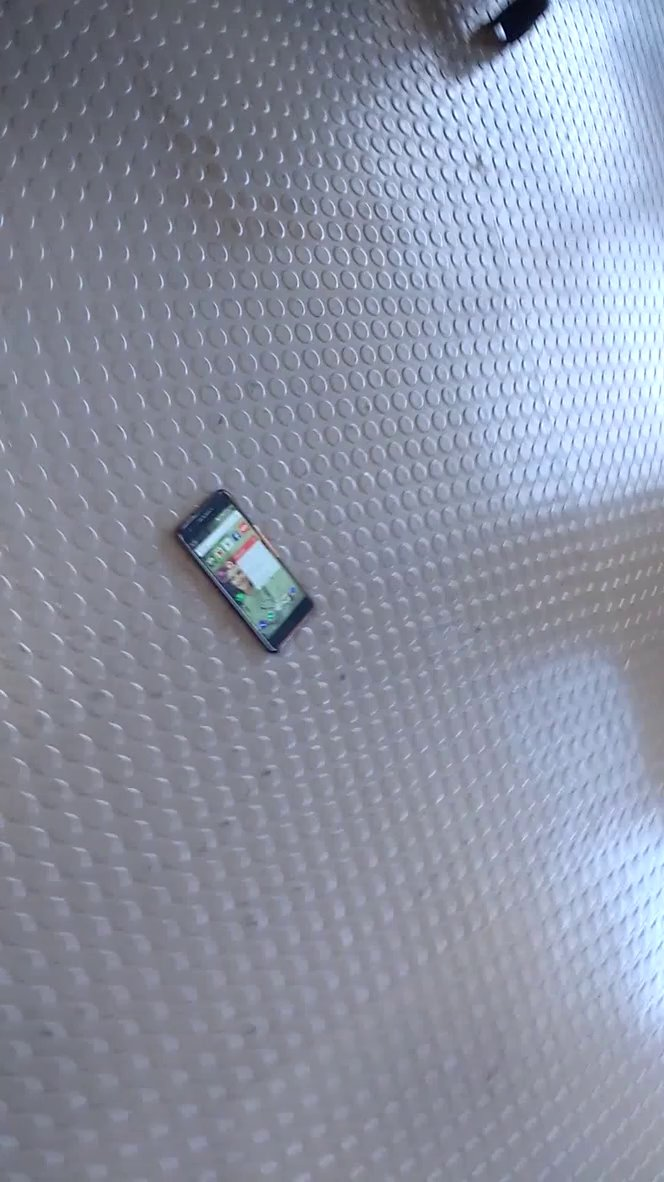phone: (166, 480, 330, 676)
